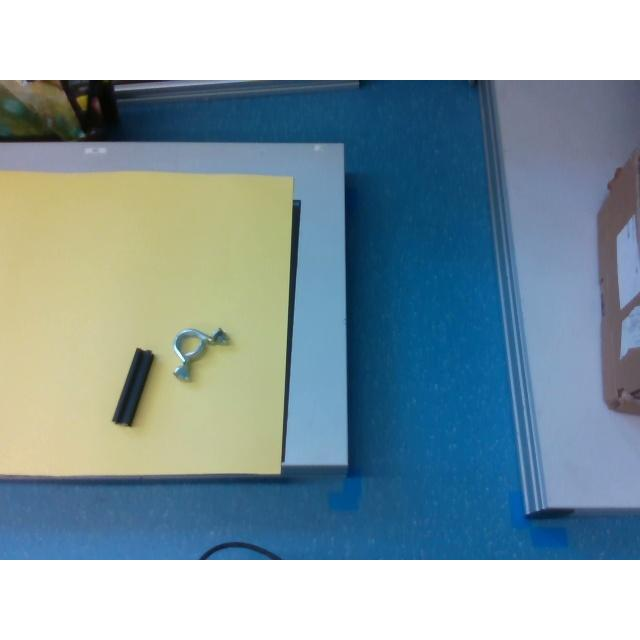F20_20_B: (114, 348, 154, 424)
Housing: (172, 327, 230, 379)
